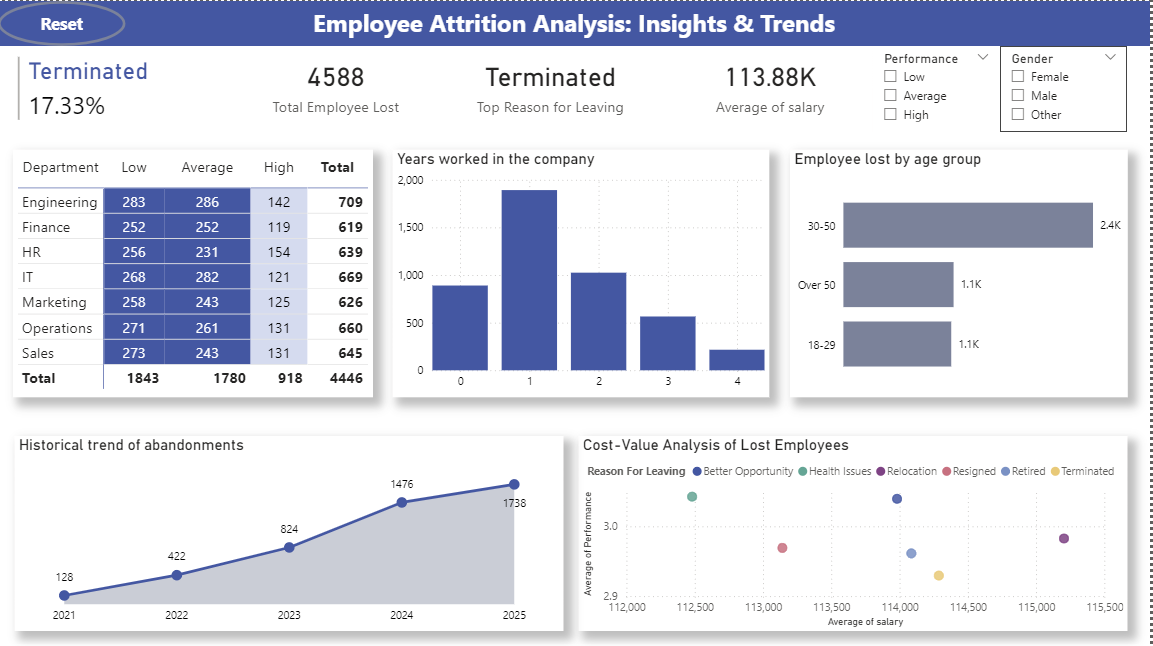

This screenshot's page, from the dashboard's own definition file:
{"tool":"powerbi","page":{"name":"Page 1","canvas":[1280,720],"ordinal":0},"visuals":[{"type":"card","fields":{"Values":["CountNonNull(projects v_employee_attrition.EmployeeID)"]},"box":[273.3,50,203.3,85],"z":0},{"type":"multiRowCard","fields":{"Values":["projects v_employee_attrition.MAX Reason Percentage","projects v_employee_attrition.Top Reason Name"]},"box":[16.7,56.7,250,88.3],"z":1000},{"type":"slicer","fields":{"Values":["projects v_employee_attrition.performance_label"]},"box":[971.7,50,141.7,95],"z":2000},{"type":"slicer","fields":{"Values":["projects v_employee_attrition.Gender"]},"box":[1113.3,50,141.7,95],"z":3000},{"type":"pivotTable","title":"Where are we losing talent?","fields":{"Rows":["projects v_employee_attrition.Department"],"Columns":["projects v_employee_attrition.performance_label"],"Values":["Count(projects v_employee_attrition.EmployeeID)"]},"box":[16.7,165,400,275],"z":4000},{"type":"scatterChart","title":"Cost-Value Analysis of Lost Employees","fields":{"X":["Avg(projects v_employee_attrition.salary)"],"Series":["projects v_employee_attrition.ReasonForLeaving"],"Y":["Avg(projects v_employee_attrition.PerformanceRating)"]},"box":[645,483.3,610,216.7],"z":5000},{"type":"areaChart","title":"Historical trend of abandonments","fields":{"Category":["projects v_employee_attrition.year_of_leaving","projects v_employee_attrition.month_of_leaving"],"Y":["CountNonNull(projects v_employee_attrition.EmployeeID)"]},"box":[18.3,483.3,610,216.7],"z":6000},{"type":"clusteredBarChart","title":"Employee lost by age group","fields":{"Category":["projects v_employee_attrition.age_group"],"Y":["CountNonNull(projects v_employee_attrition.EmployeeID)"]},"box":[880,165,375,275],"z":7000},{"type":"clusteredColumnChart","title":"Years worked in the company","fields":{"Y":["CountNonNull(projects v_employee_attrition.EmployeeID)"],"Category":["projects v_employee_attrition.CompanySeniority"]},"box":[438.3,165,418.3,275],"z":8000},{"type":"textbox","box":[0,0,1280,50],"z":9000},{"type":"actionButton","box":[0,0,141.7,50],"z":10000},{"type":"card","fields":{"Values":["Avg(projects v_employee_attrition.salary)"]},"box":[750,50,215,85],"z":11000},{"type":"card","fields":{"Values":["projects v_employee_attrition.Top Reason Name"]},"box":[476.7,50,273.3,85],"z":12000}]}

Visuals, with their boxes in screenshot pixels (x1, y1, x2, y2), scaled from the page's 1280x720 canvas onto the 1153x646 screenshot:
card - CountNonNull(projects v_employee_attrition.EmployeeID): box(246, 45, 429, 121)
multiRowCard - projects v_employee_attrition.MAX Reason Percentage x projects v_employee_attrition.Top Reason Name: box(15, 51, 240, 130)
slicer - projects v_employee_attrition.performance_label: box(875, 45, 1003, 130)
slicer - projects v_employee_attrition.Gender: box(1003, 45, 1130, 130)
"Where are we losing talent?" pivotTable: box(15, 148, 375, 395)
"Cost-Value Analysis of Lost Employees" scatterChart: box(581, 434, 1130, 628)
"Historical trend of abandonments" areaChart: box(16, 434, 566, 628)
"Employee lost by age group" clusteredBarChart: box(793, 148, 1130, 395)
"Years worked in the company" clusteredColumnChart: box(395, 148, 772, 395)
textbox: box(0, 0, 1152, 45)
actionButton: box(0, 0, 128, 45)
card - Avg(projects v_employee_attrition.salary): box(676, 45, 869, 121)
card - projects v_employee_attrition.Top Reason Name: box(429, 45, 676, 121)
